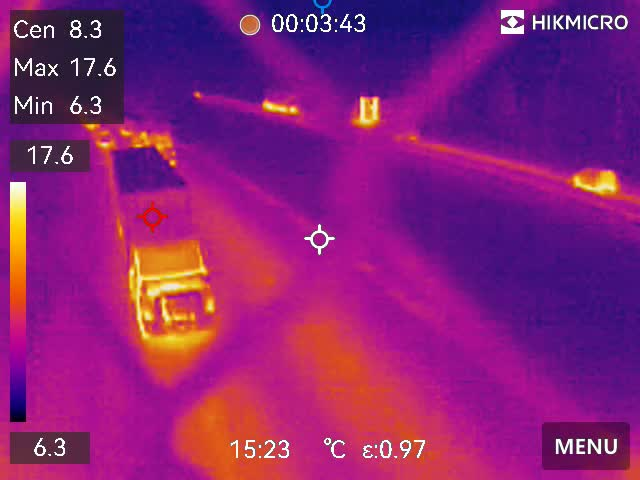heavyTruck: (109, 146, 220, 342)
vehicle: (565, 158, 618, 195)
